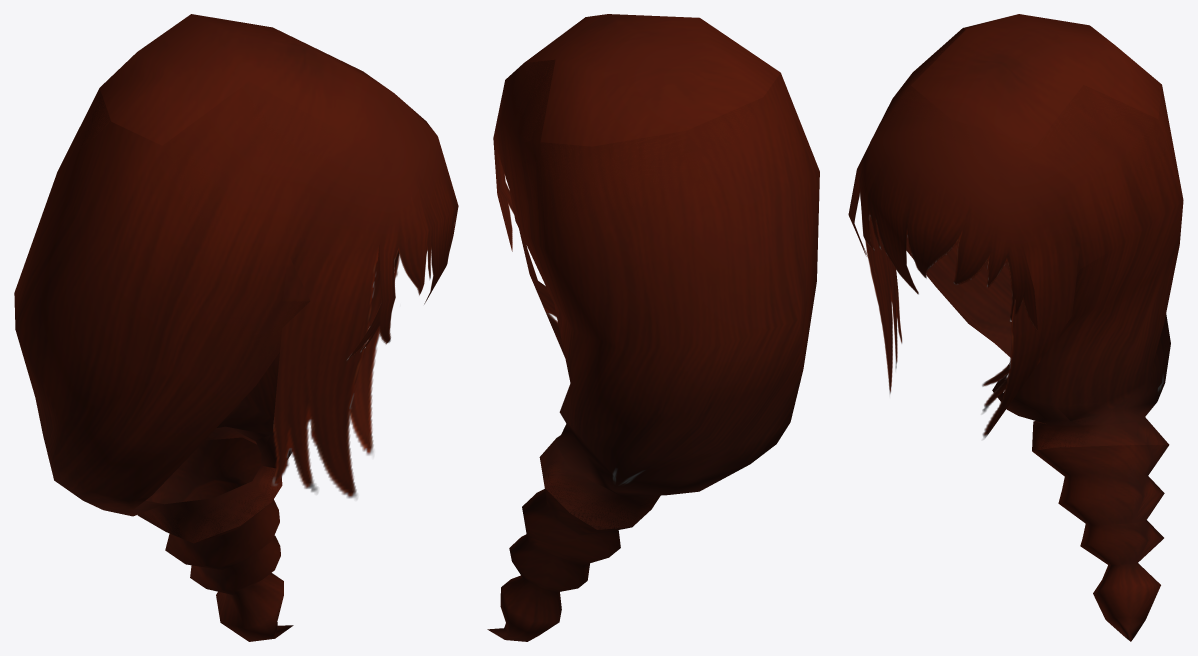
Rendered from Liso_0.glb.
The picture shows the model from 3 angles, left to right: view 1: azimuth 30°, elevation 25°; view 2: azimuth 150°, elevation 25°; view 3: azimuth 270°, elevation 25°; orthographic projection. The views are drawn at different scales.
Parts seen in each view (by area): view 1: #G1L.001; view 2: #G1L.001; view 3: #G1L.001.
Part boxes in pixels (left/top/right/bottom): #G1L.001: left=14, top=14, right=458, bottom=641; #G1L.001: left=487, top=14, right=819, bottom=641; #G1L.001: left=848, top=14, right=1183, bottom=641.
Bounding box in the file's own units: 0.0344 × 0.0576 × 0.0309.
1 material, 1 textured.
